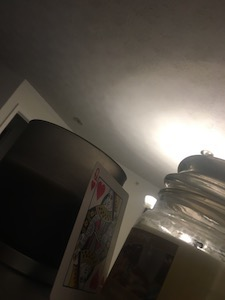QueenOfHearts: (48, 159, 130, 300)
